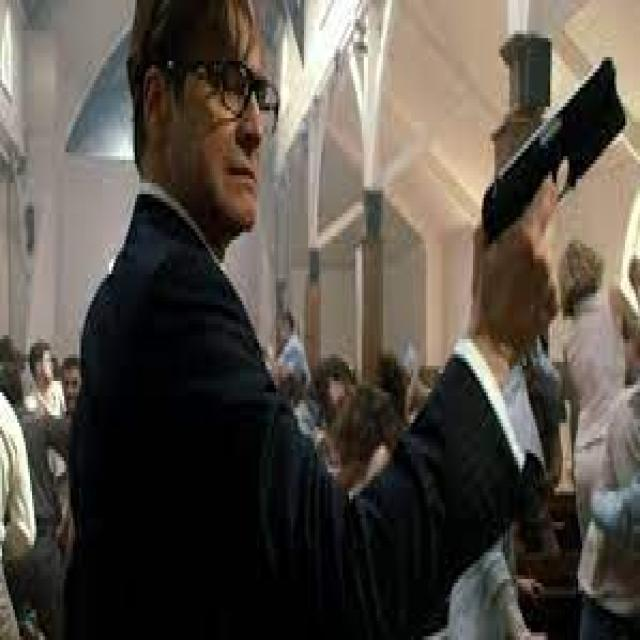weapons: (468, 38, 627, 326)
